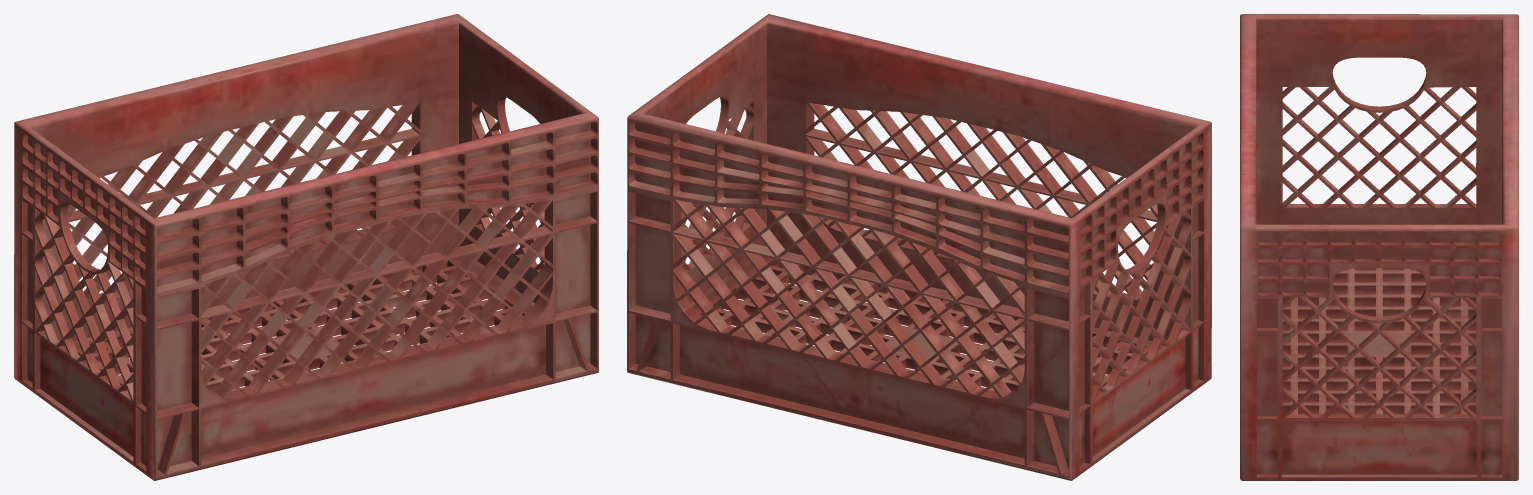
Rendered from crate-stack.glb.
3 views of the same model, side by side, from view 1: azimuth 30°, elevation 25°; view 2: azimuth 150°, elevation 25°; view 3: azimuth 270°, elevation 25° (orthographic).
Parts seen in each view (by area): view 1: plastic_crate_03; view 2: plastic_crate_03; view 3: plastic_crate_03.
Boxes of the visible parts, x1=… form: plastic_crate_03: x1=14, y1=14, x2=598, y2=480; plastic_crate_03: x1=627, y1=14, x2=1211, y2=480; plastic_crate_03: x1=1240, y1=14, x2=1518, y2=480.
Size of the model in its own units: 0.4811 by 0.266 by 0.265.
Materials: 1 (1 with a texture image).
